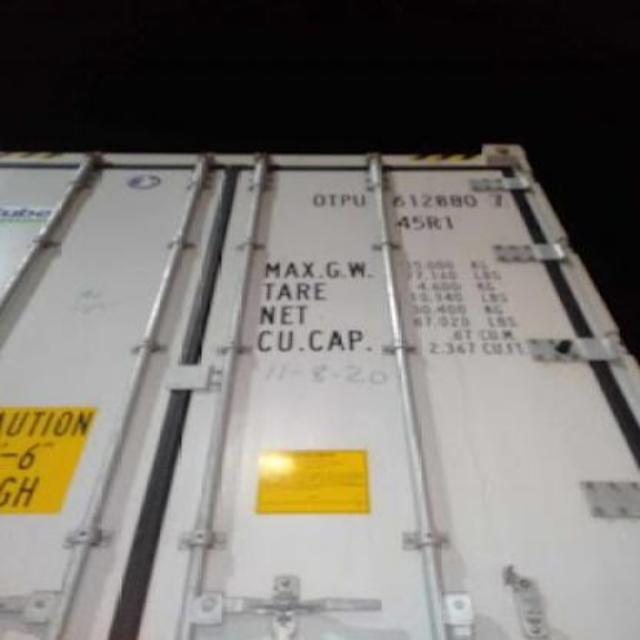0: (464, 194, 478, 208)
1: (408, 194, 422, 210)
2: (420, 192, 436, 208)
6: (388, 192, 406, 208)
7: (490, 192, 502, 208)
8: (436, 194, 448, 208), (452, 192, 460, 206)
O: (314, 192, 326, 206)
P: (340, 194, 352, 208)
T: (326, 190, 339, 206)
U: (352, 192, 366, 206)
